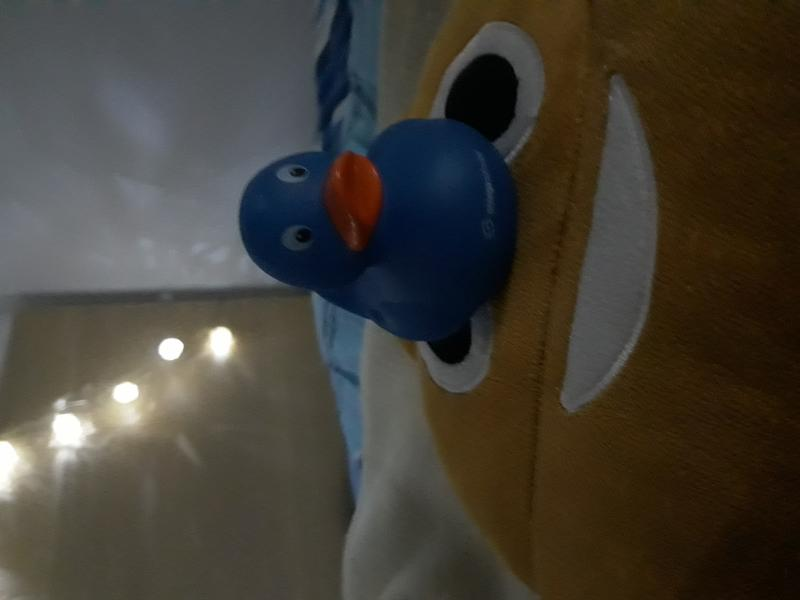plava_patkica: (209, 99, 521, 353)
